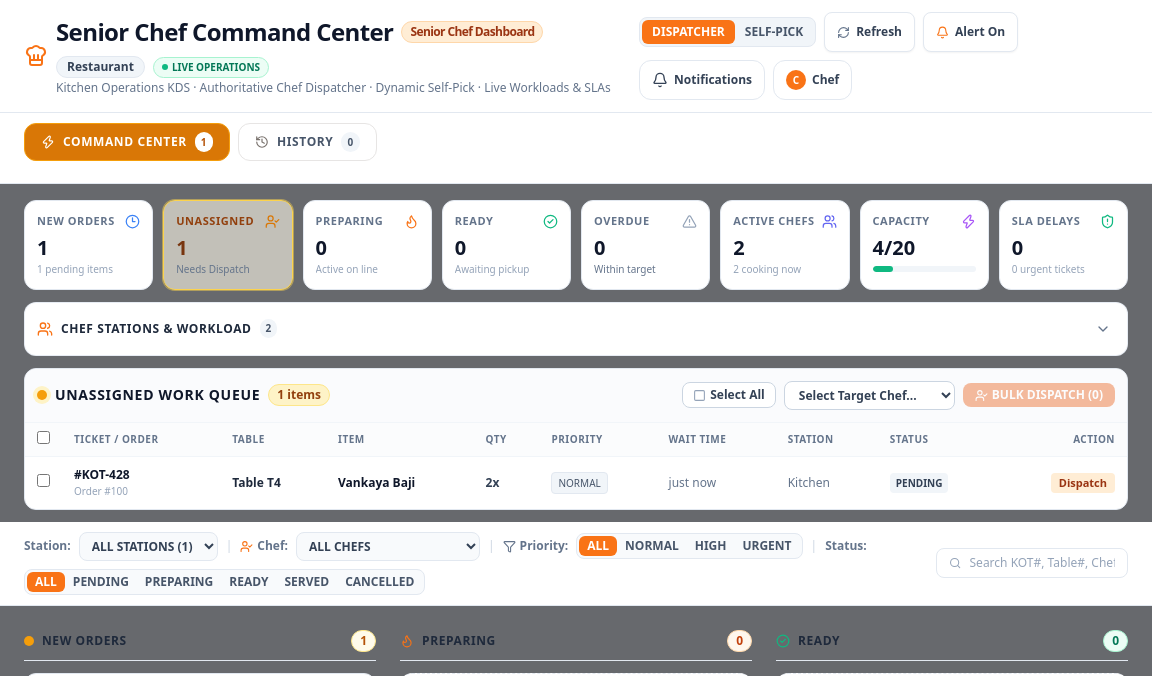
Test: Collapsible Chef Stations & Workload Suite › expands workload section when header is clicked, showing chef cards and workload metrics
Expected: the text "Senior Chef Command Center" is shown, [56,16,393,48]
Note: Click to expand
Click the button "Chef Stations & Workload 2".
click(156, 328)  # box [37,314,1115,342]
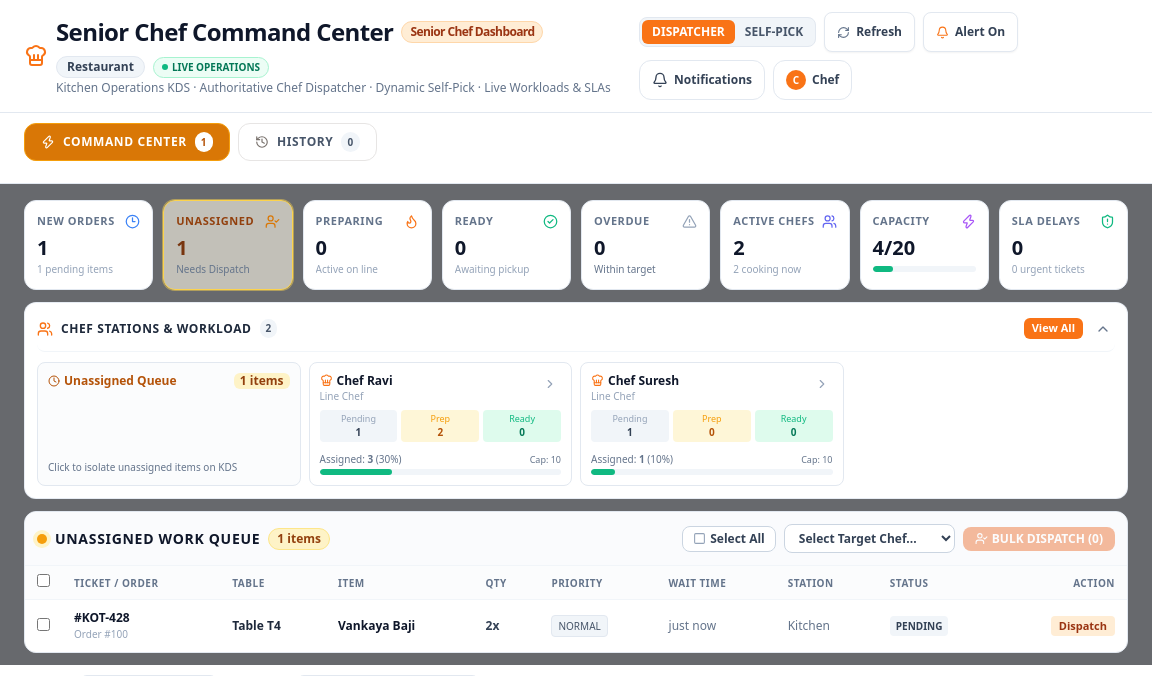
Result: the button "Chef Stations & Workload 2 View All" is expanded at [37,314,1115,352]
Result: the text "Chef Suresh" is shown at [608,372,679,388]
Result: the text "Unassigned Queue" is shown at [48,372,177,388]
